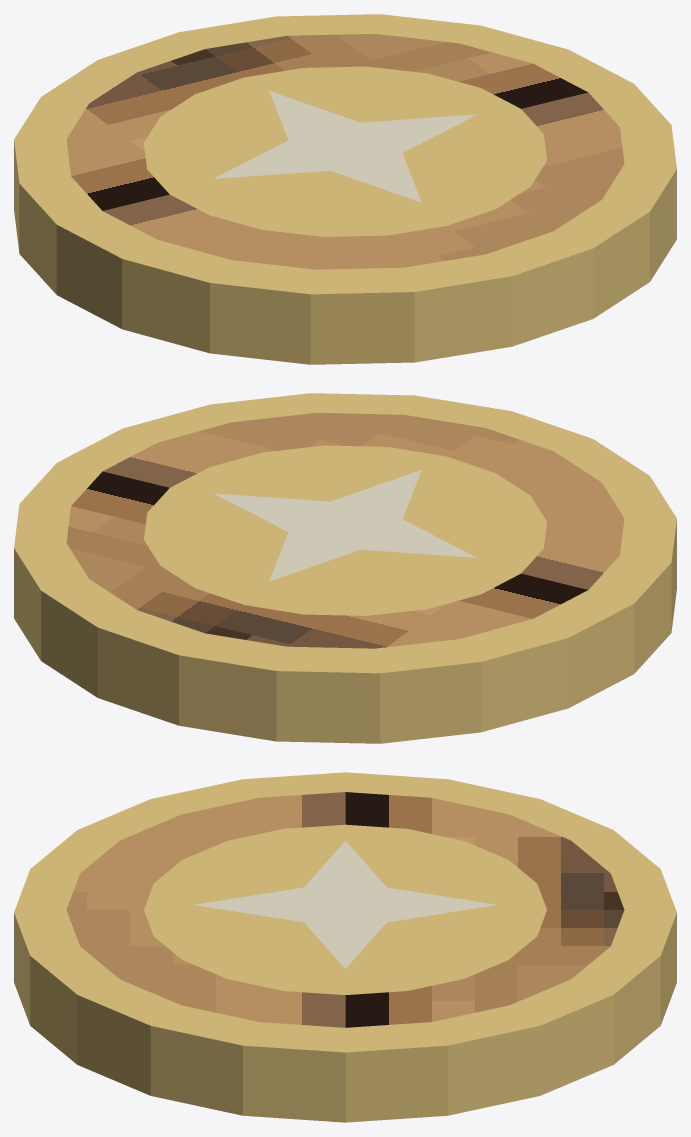
Rendered from moeda_chao.glb.
3 renders of one model, top to bottom at view 1: azimuth 30°, elevation 25°; view 2: azimuth 150°, elevation 25°; view 3: azimuth 270°, elevation 25°, orthographic.
Parts seen in each view (by area): view 1: deserto_moeda_chao; view 2: deserto_moeda_chao; view 3: deserto_moeda_chao.
Part boxes in pixels (<box>): deserto_moeda_chao: <box>14,14,676,364</box>; deserto_moeda_chao: <box>14,393,676,743</box>; deserto_moeda_chao: <box>14,772,676,1122</box>.
Bounding box in the file's own units: 0.24 × 0.031 × 0.24.
3 materials, 1 textured.
